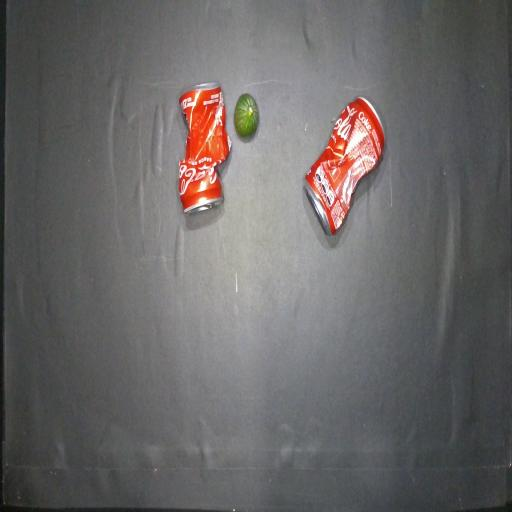higo: (234, 93, 259, 137)
lata_defectuoso: (304, 98, 385, 235), (179, 82, 231, 212)
